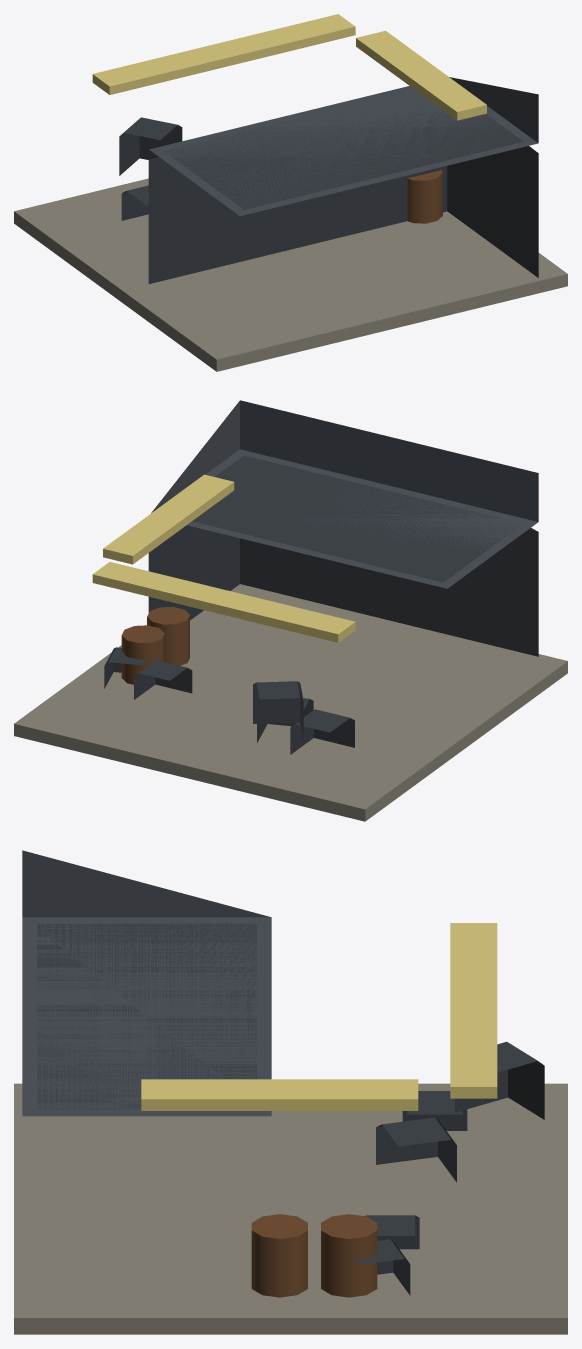
Rendered from supply_depot.glb.
The picture shows the model from 3 angles, top to bottom: view 1: azimuth 30°, elevation 25°; view 2: azimuth 150°, elevation 25°; view 3: azimuth 270°, elevation 25°; orthographic projection. The views are drawn at different scales.
Parts seen in each view (by area): view 1: Body; view 2: Body; view 3: Body.
Boxes of the visible parts, box(x1,y1,x2,y2) form: Body: box(14, 14, 567, 371); Body: box(14, 400, 567, 821); Body: box(14, 850, 567, 1334).
Bounding box in the file's own units: 6 × 3.2 × 6.
